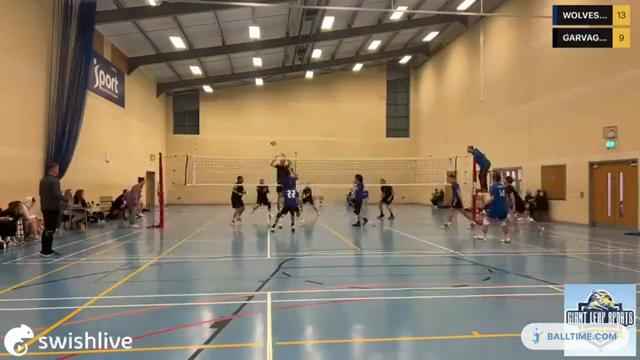muro: (269, 151, 291, 218)
